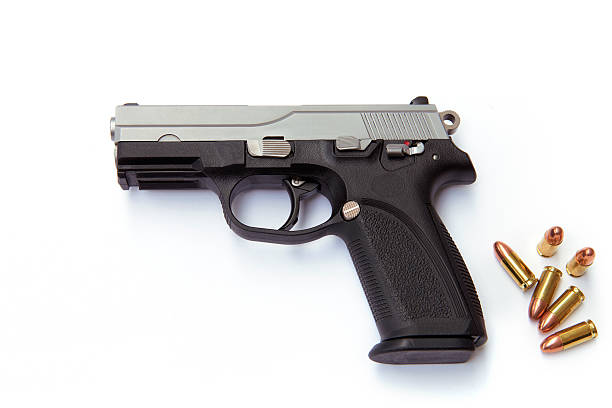pistol: (107, 96, 492, 370)
